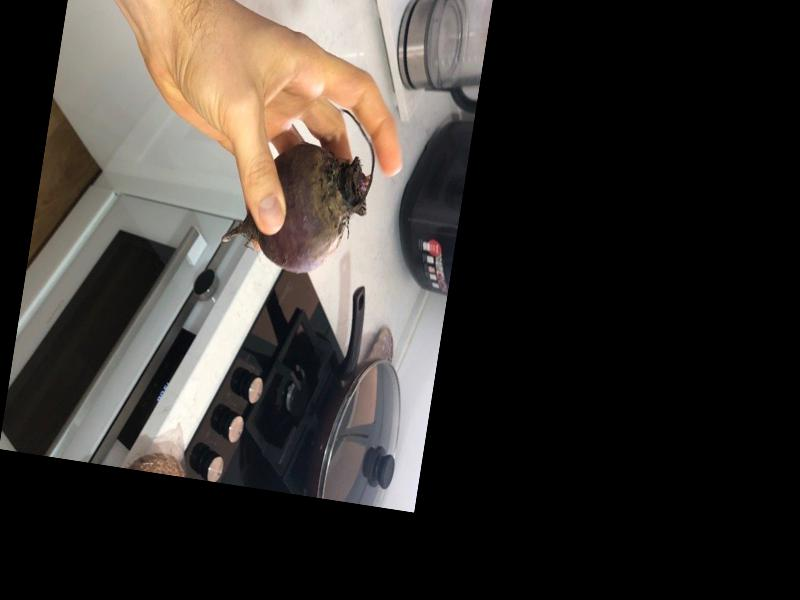Beet: (218, 96, 381, 281)
